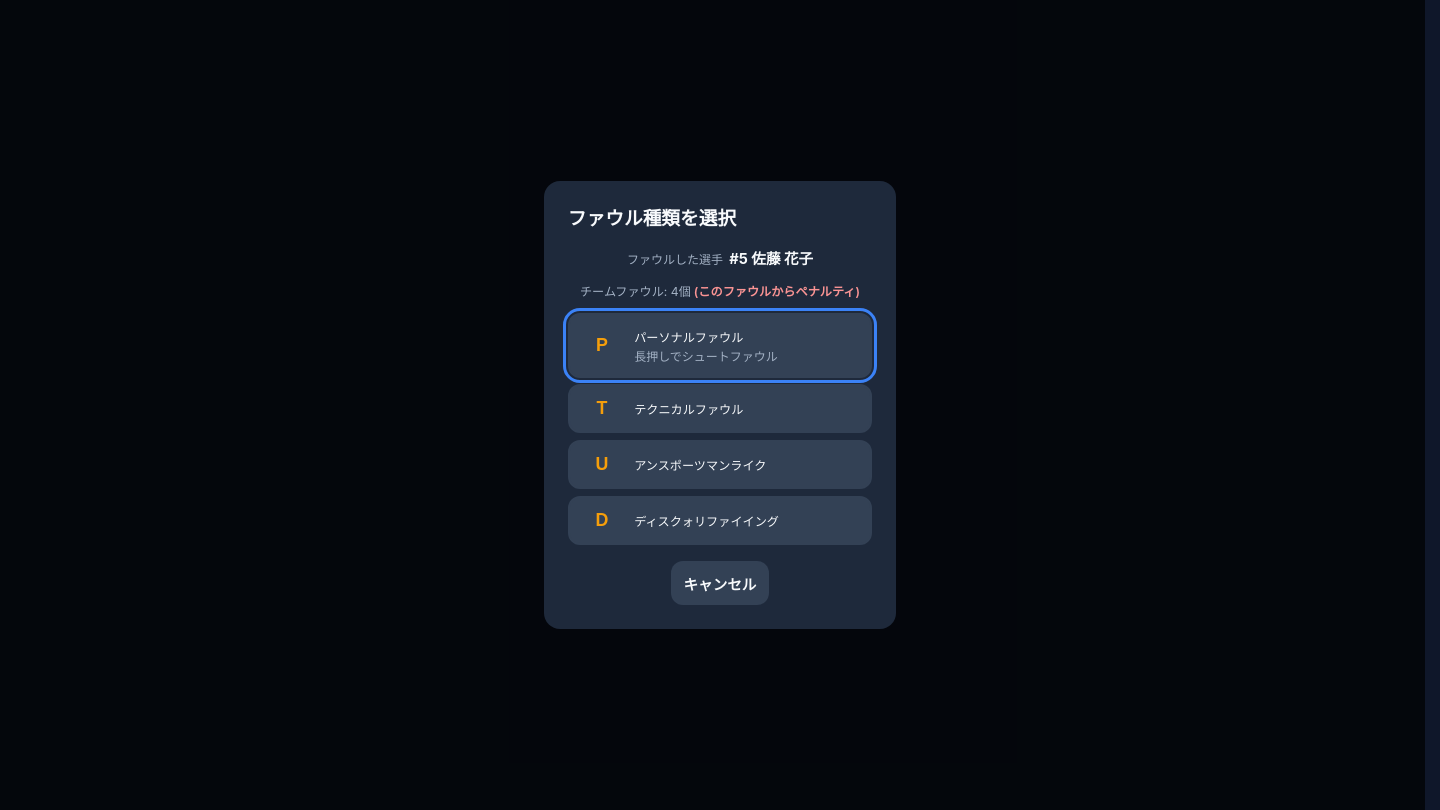
Test: ステップ切り替え後のフォーカス › ファウル種類 → FT本数選択（T）で残る
Step 1. Click the button "T テクニカルファウル" → (720, 409), box [568,384,872,434]
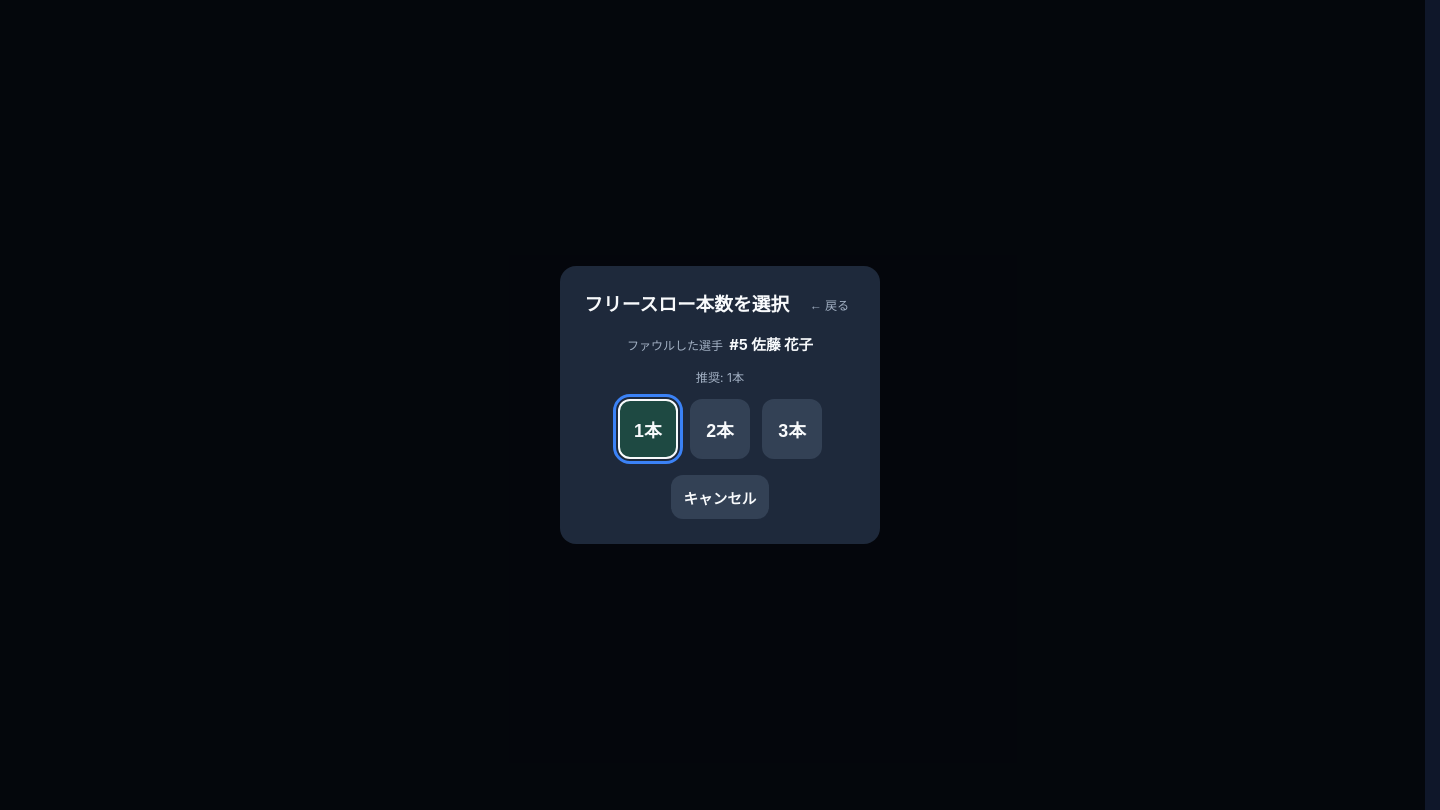
expect the heading "フリースロー本数を選択" is shown: met, box [584,291,789,319]
